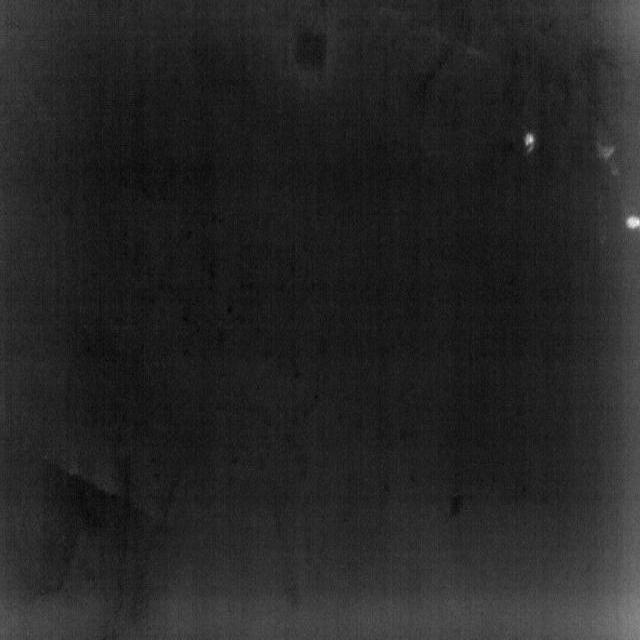deer: (523, 132, 536, 156), (625, 213, 640, 231)
